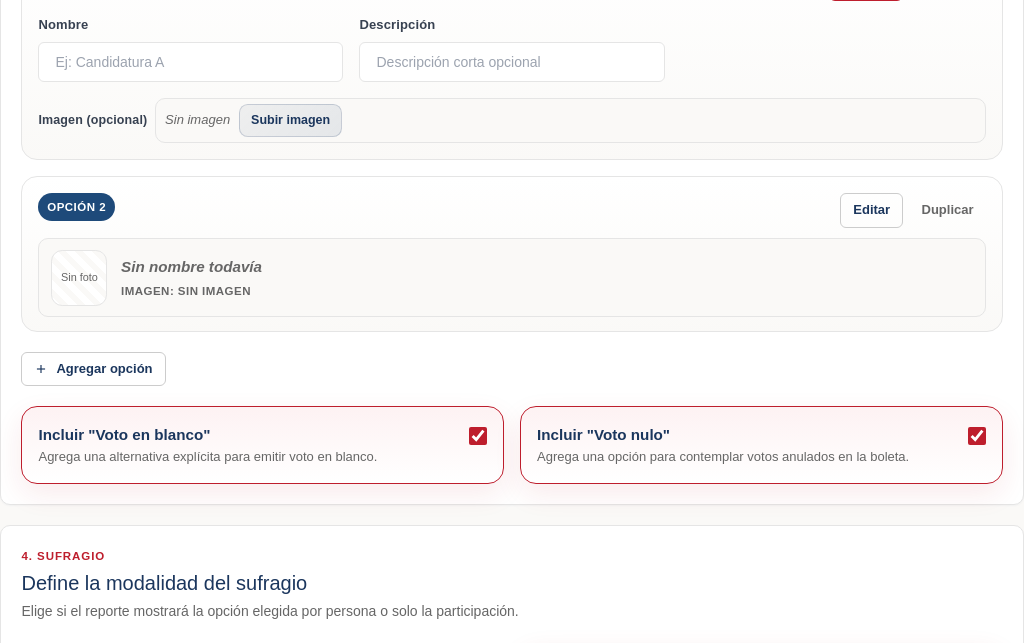
Test case: CrearEleccionPage › adds another candidate option
The image size is (1024, 643).
(page scrolled)
Click the button "Agregar opción" at (94, 369), box [22,352,166,386]
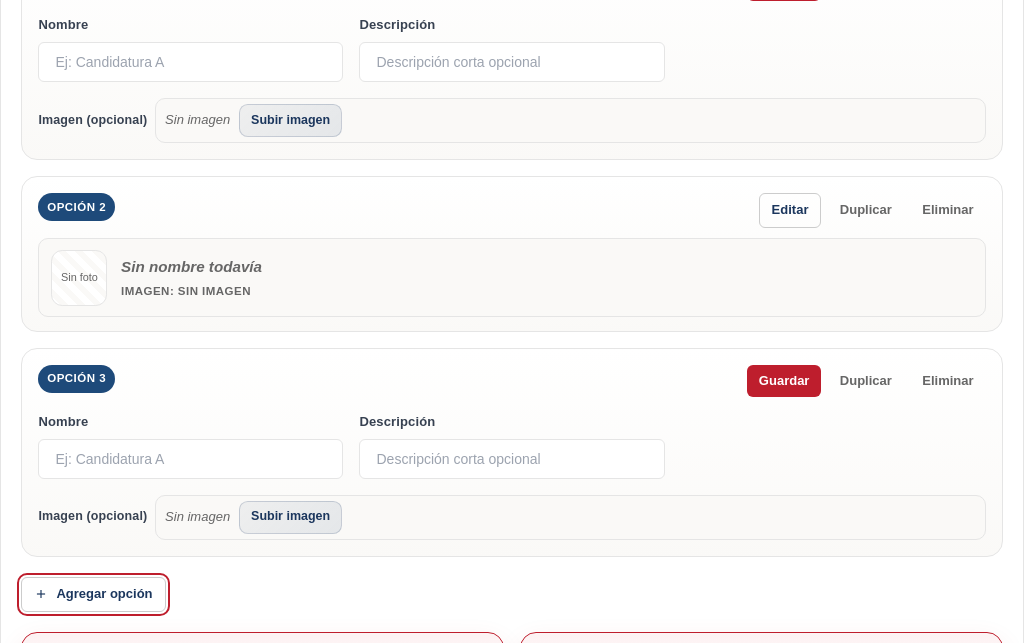
Expected: the 2nd field labelled "Ej: Candidatura A" is shown, [38,439,344,479]
